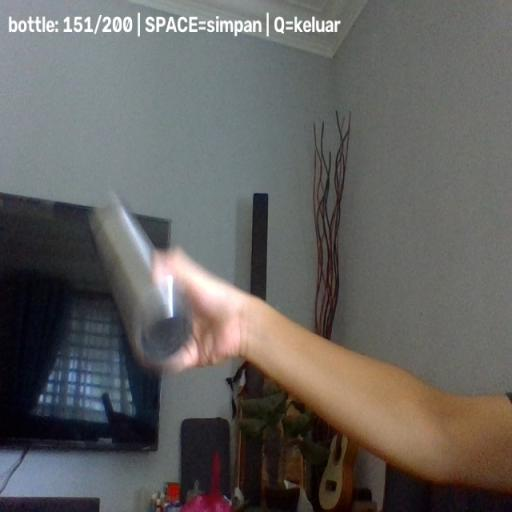Bottle: (88, 191, 193, 366)
